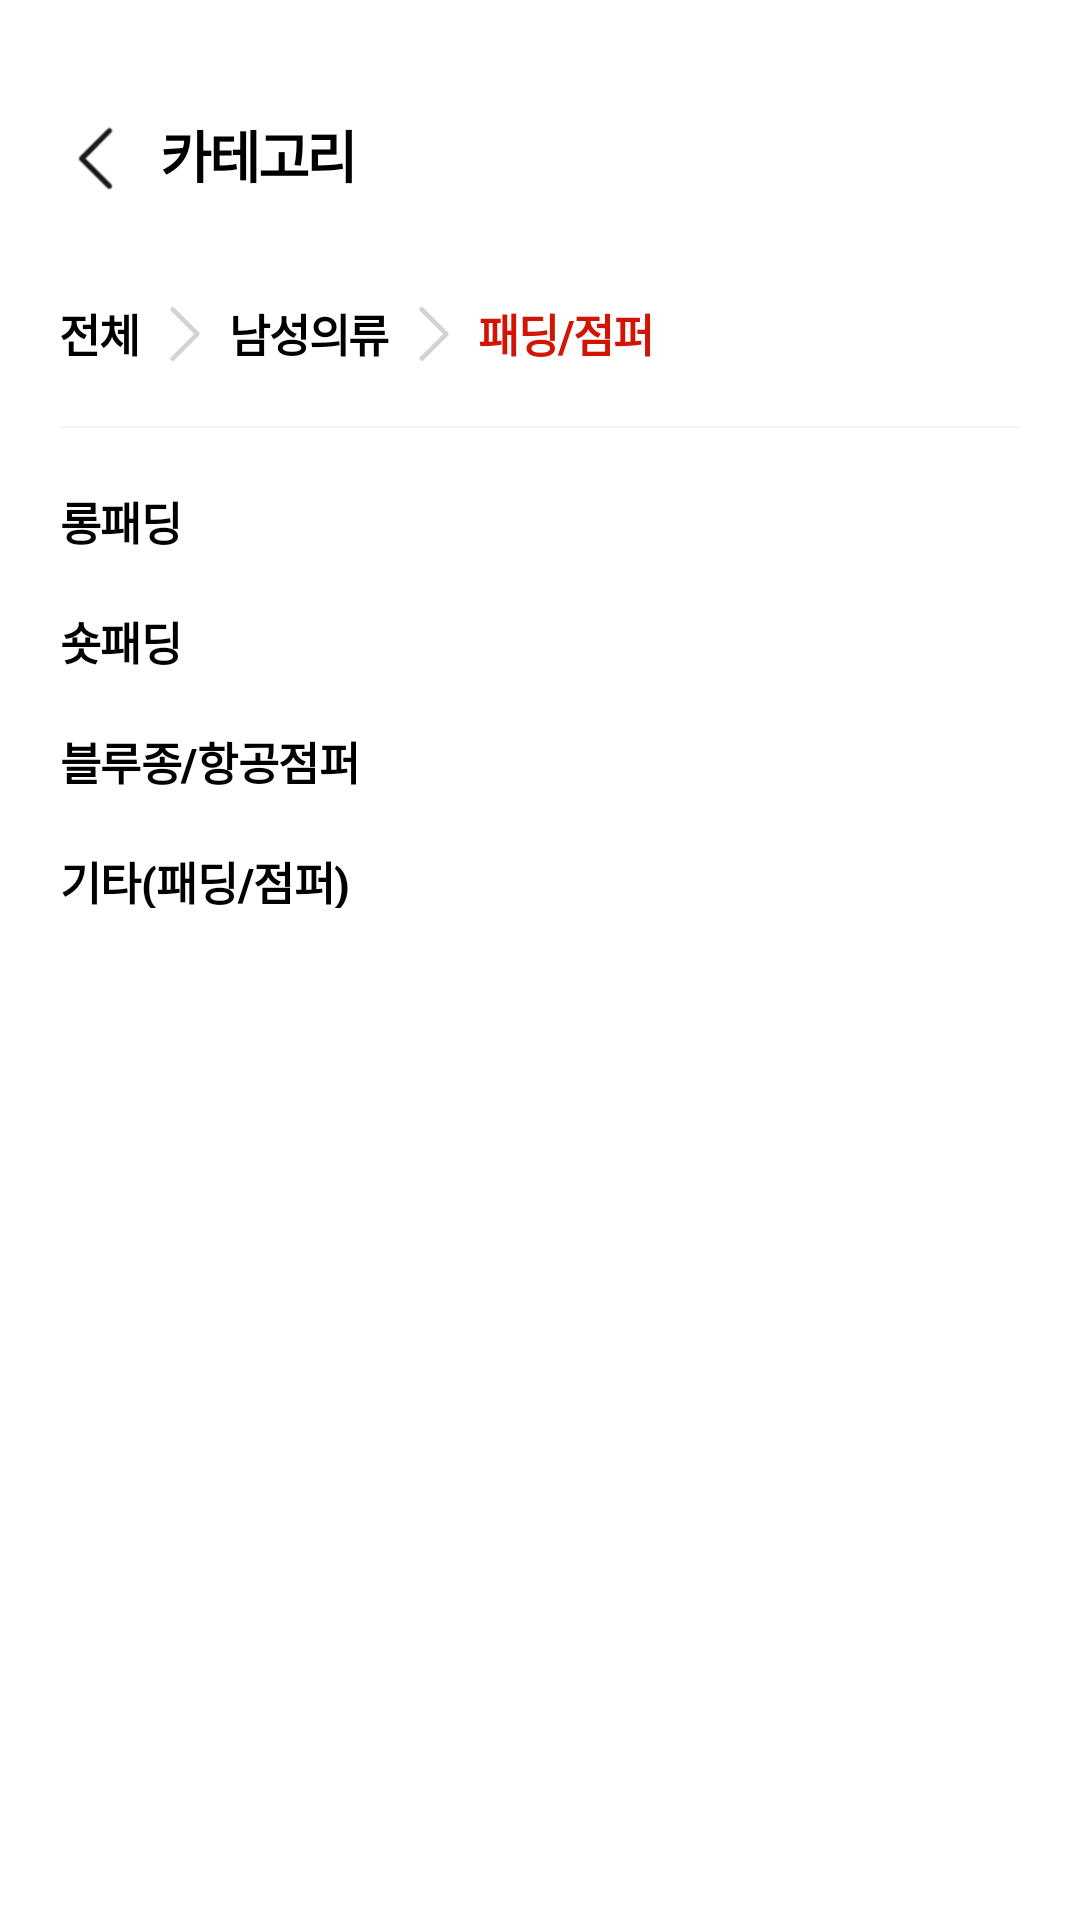

Where to tap for icons on this 1080*1920 app screen, as (x,y):
chevron right lightgray: (185,334), (434,334)
left arrow: (95,158)
